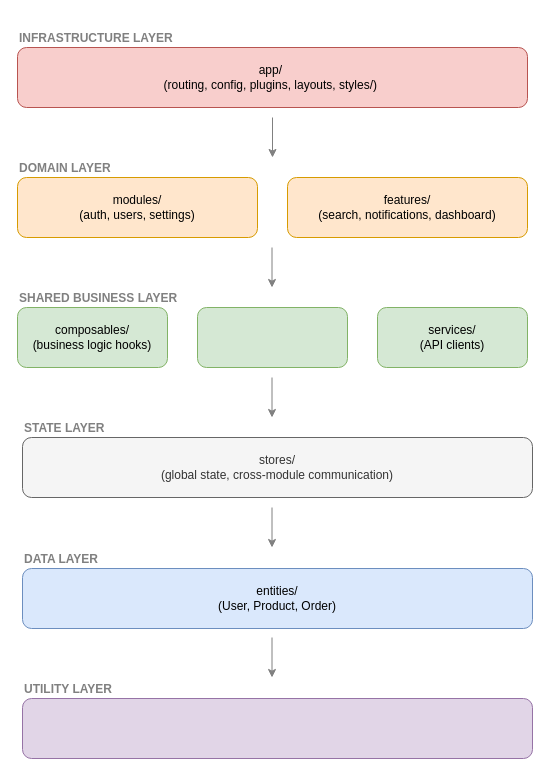
Image size: 550x776. Some labels were removed from this diagram. The shapes that lost their labels are listed below. From the top down, each one's box as (x1, y1, x2, y2) in pixels, then its label:
(196, 306, 348, 368): components/ (reusable UI)
(22, 698, 532, 758): shared/ (UI kit, constants, formatters, validators)
